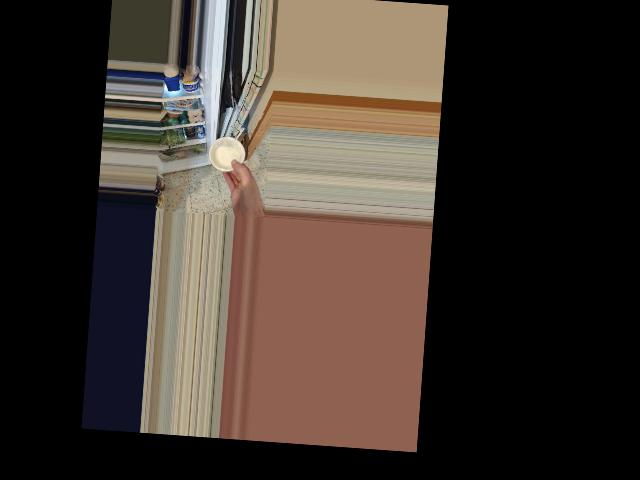cotage: (210, 135, 244, 168)
